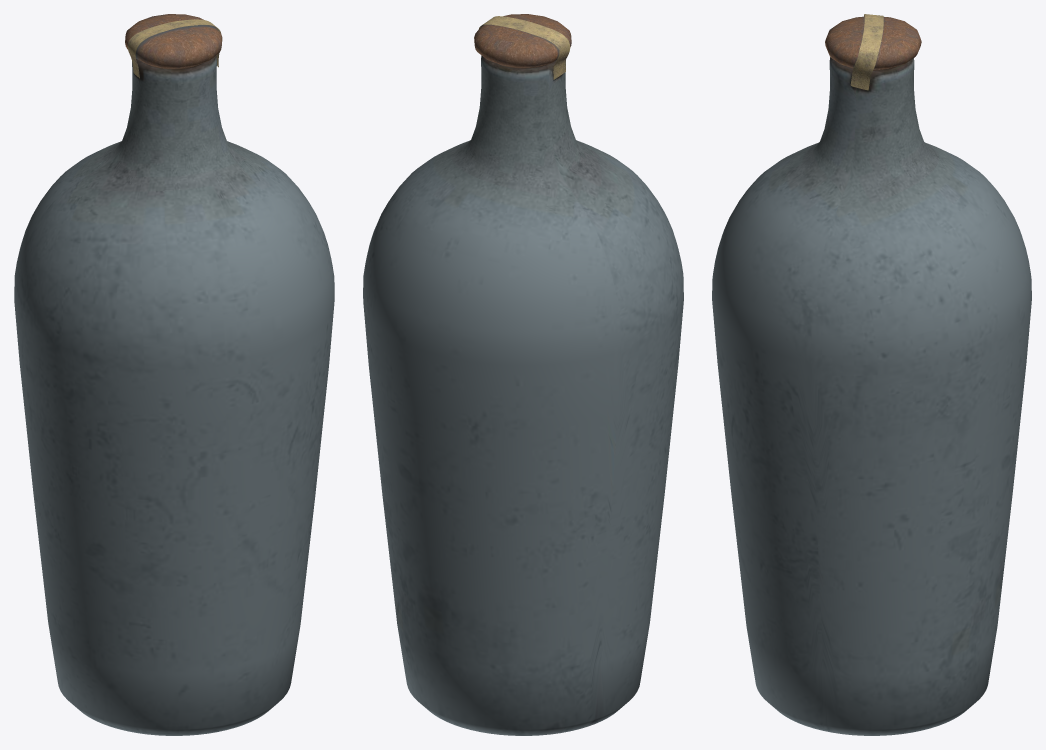
The model's file is spirit_home.glb.
The picture shows the model from 3 angles, left to right: view 1: azimuth 30°, elevation 25°; view 2: azimuth 150°, elevation 25°; view 3: azimuth 270°, elevation 25°; orthographic projection.
Visible parts, largest first — view 1: Outside_Bottle; view 2: Outside_Bottle; view 3: Outside_Bottle.
Part boxes in pixels (box(x1,y1,x2,y2)): Outside_Bottle: box(14, 14, 334, 735); Outside_Bottle: box(363, 14, 683, 735); Outside_Bottle: box(712, 14, 1031, 735).
Size of the model in its own units: 0.2045 by 0.4702 by 0.2045.
Materials: 5 (5 with a texture image).
